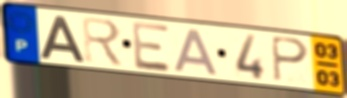4: (233, 32, 267, 81)
A: (172, 27, 222, 77), (38, 14, 87, 63)
E: (129, 20, 173, 74)
P: (269, 34, 311, 83)
R: (80, 15, 127, 69)
